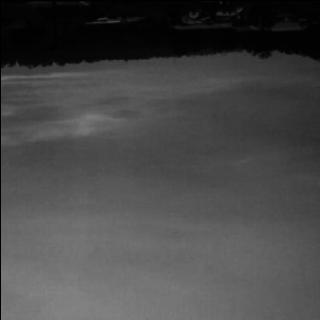Stratocumulus: (0, 58, 320, 320)
